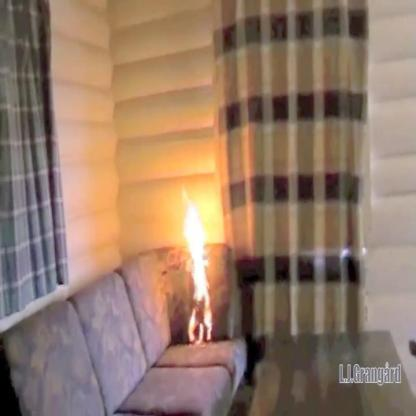fire: (178, 184, 216, 348)
